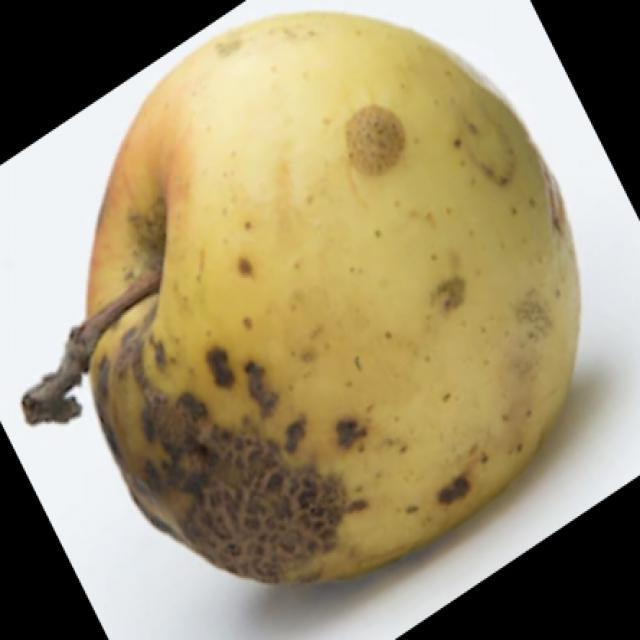Rotten: (68, 15, 592, 587)
